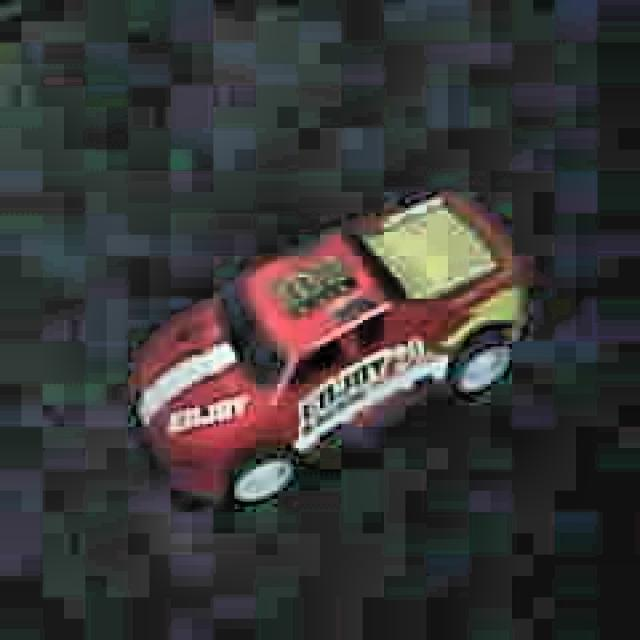car: (127, 181, 528, 518)
